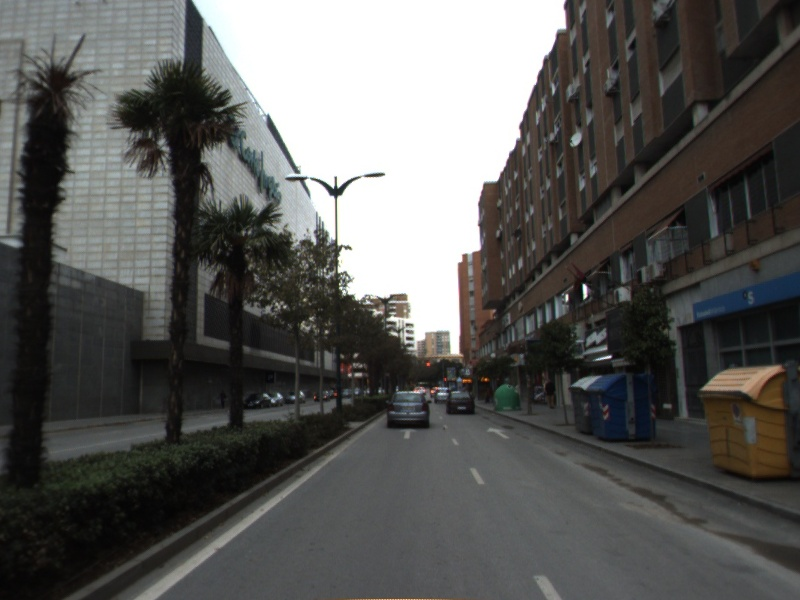STRAIGHT: (485, 426, 512, 441), (397, 427, 419, 440)
